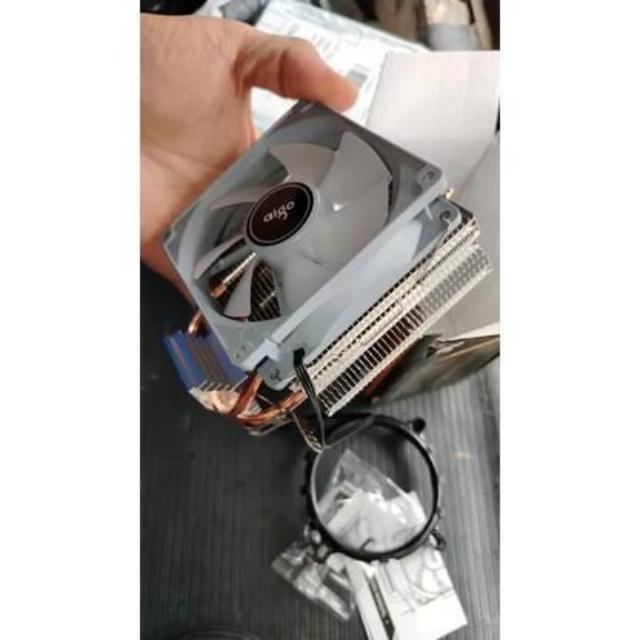CPU_Fan: (162, 92, 496, 444)
